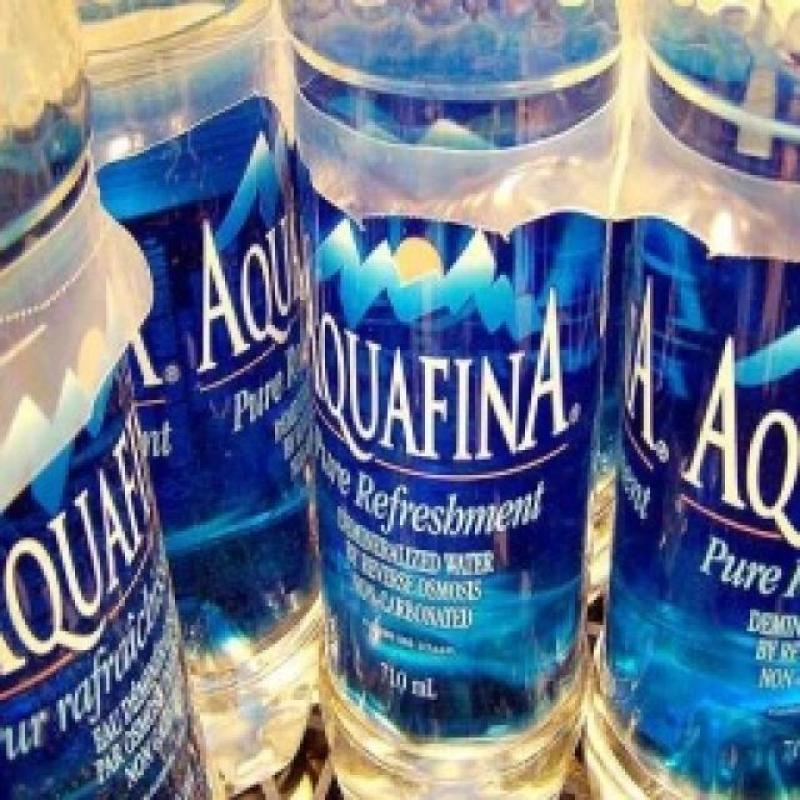botella: (282, 0, 632, 800), (73, 0, 314, 800), (0, 0, 219, 800), (584, 0, 800, 800)
